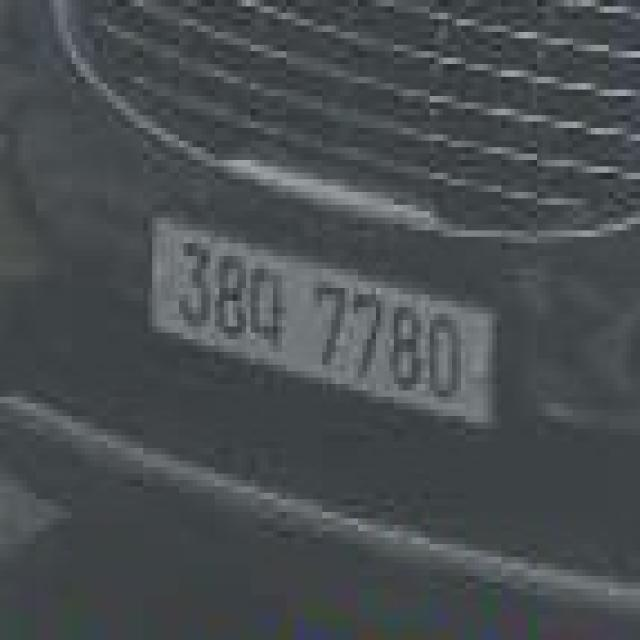0: (425, 307, 466, 403)
3: (174, 237, 210, 333)
7: (313, 282, 349, 364), (353, 288, 385, 378)
8: (390, 301, 426, 397), (214, 256, 250, 339)
da: (246, 256, 287, 346)
license_plate: (148, 211, 506, 435)
